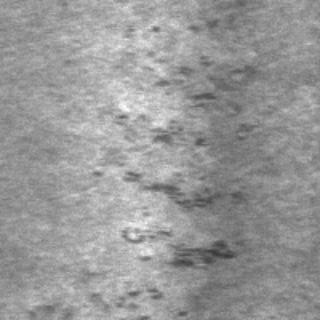rolled pit: (102, 16, 232, 150), (88, 165, 240, 273), (32, 284, 186, 316)
